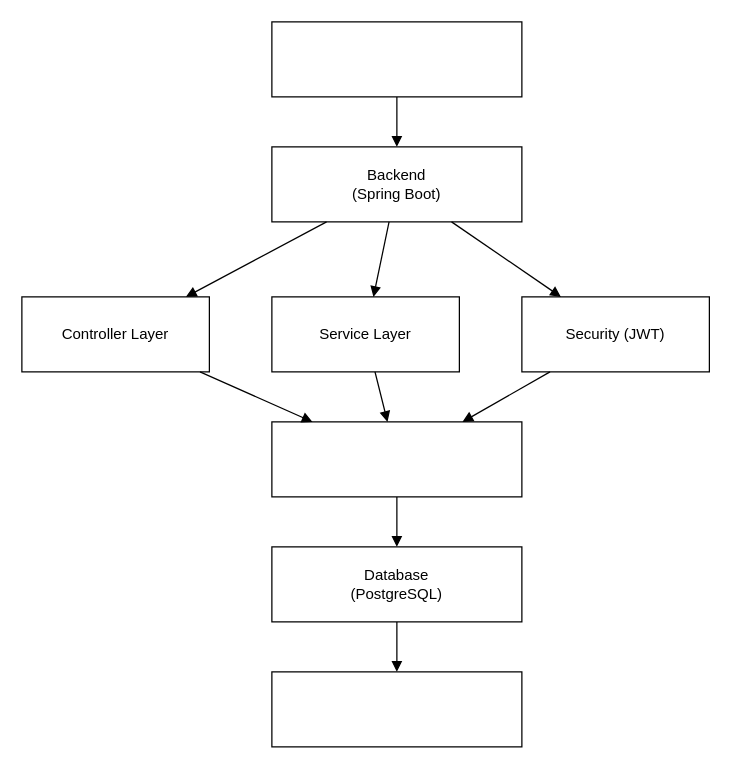
The diagram is 731 pixels wide and 769 high, and some of its shapes have lost their labels. The centre of each missing label's shape, as x and y in pixels:
Frontend (React + Vite): pixel 396 59
Redis Cache (Book Location): pixel 396 709
Repository (Spring Data JPA): pixel 396 459
